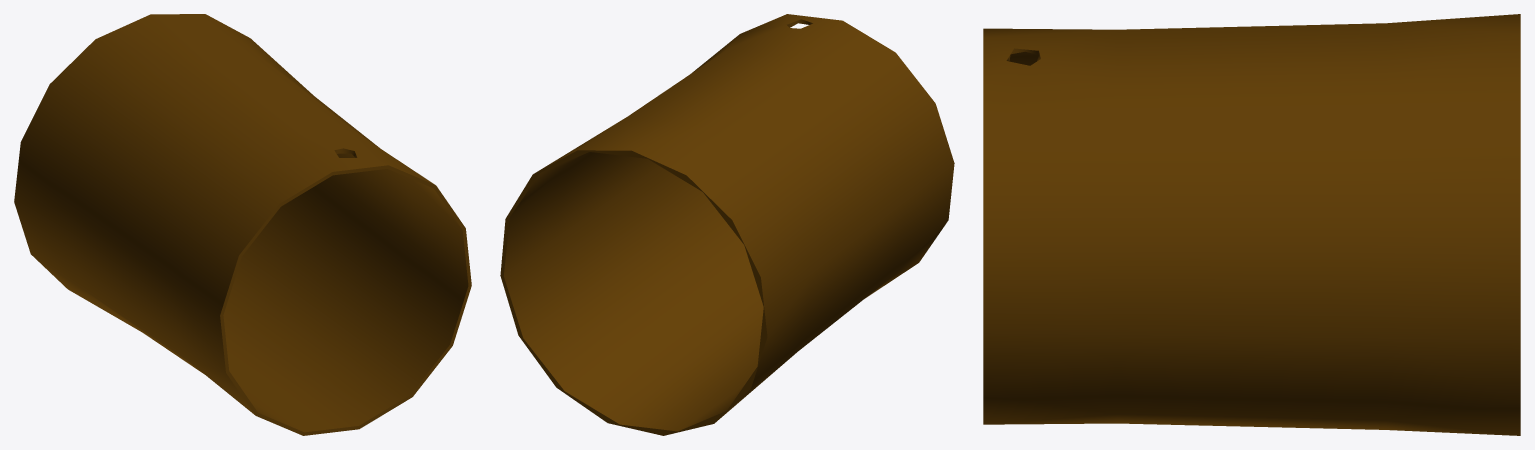
File: Cylindre barillet_Mouvement.obj
3 views of the same model, side by side, from view 1: azimuth 30°, elevation 25°; view 2: azimuth 150°, elevation 25°; view 3: azimuth 270°, elevation 25° (orthographic). The views are drawn at different scales.
Visible parts, largest first — view 1: Face_2, Face_1, Face_4; view 2: Face_2, Face_1, Face_3; view 3: Face_2.
Part boxes in pixels (x1,y1,x2,y2): Face_2: (14, 14, 434, 414); Face_1: (223, 153, 468, 432); Face_4: (220, 165, 471, 435); Face_2: (536, 14, 954, 421); Face_1: (504, 152, 763, 431); Face_3: (500, 150, 767, 435); Face_2: (983, 14, 1520, 435).
Size of the model in its own units: 0.0398 by 0.0396 by 0.0505.
